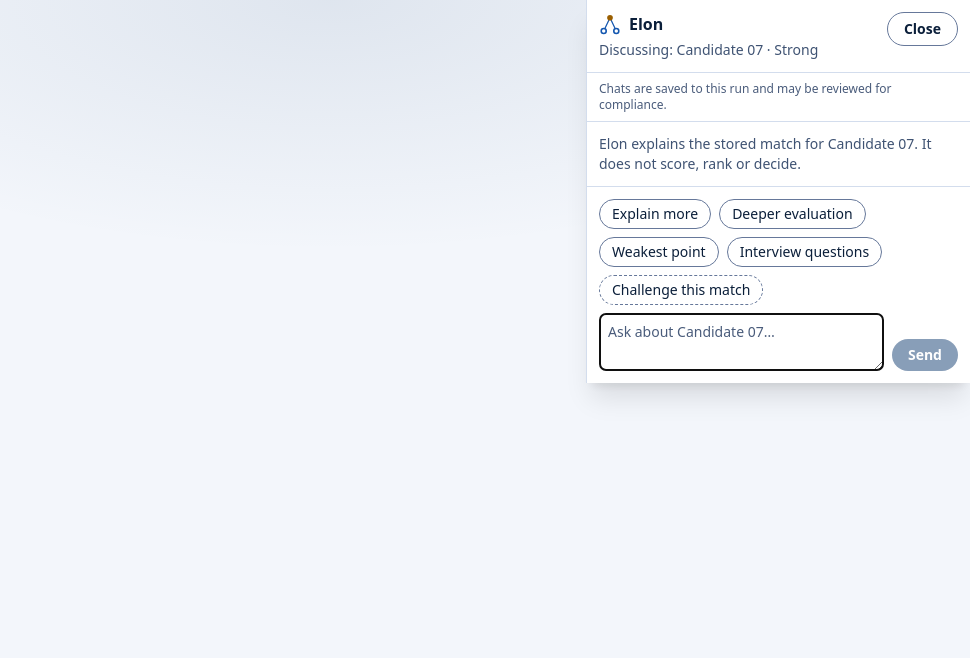
Test: assistant panel › challenge takes an optional read of the recruiter
The image size is (970, 658).
Click the button "Challenge this match": (681,290) 599,275 -> 763,305
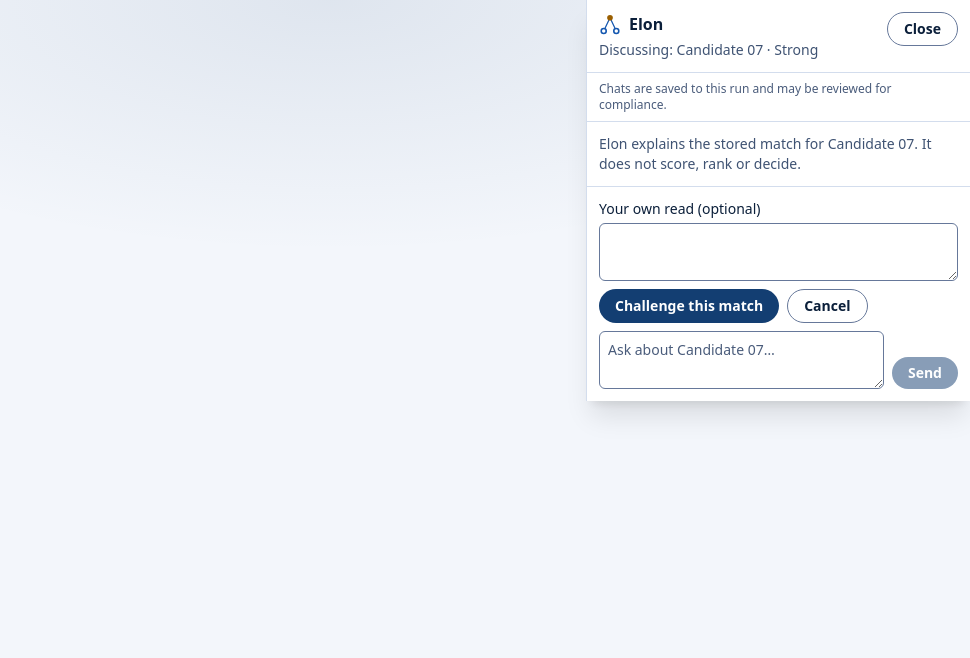
In the text box labelled "Your own read (optional)": (778,252) 599,223 -> 958,281, type "I think this is too high"
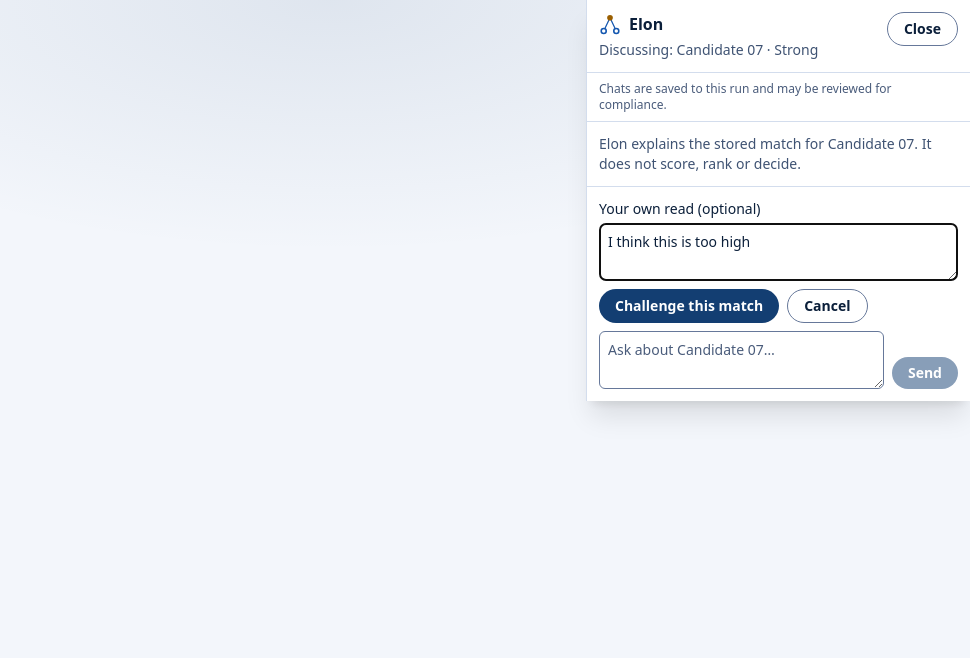
Click the button "Challenge this match": (689,306) 599,289 -> 779,323
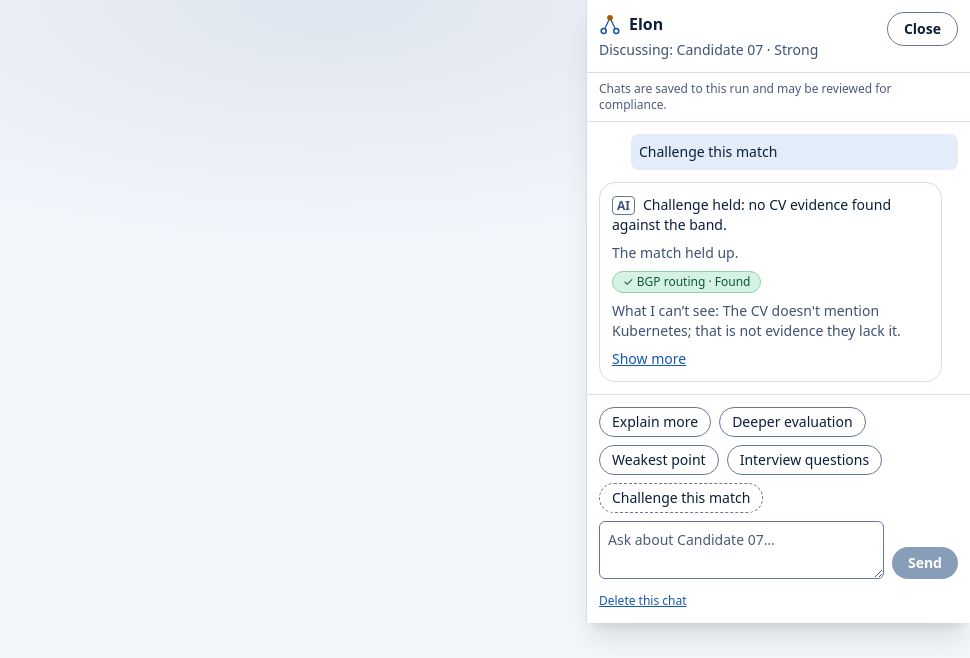
Result: the text "Challenge held: no CV evidence found against the band." is shown at 612,195 -> 891,234
